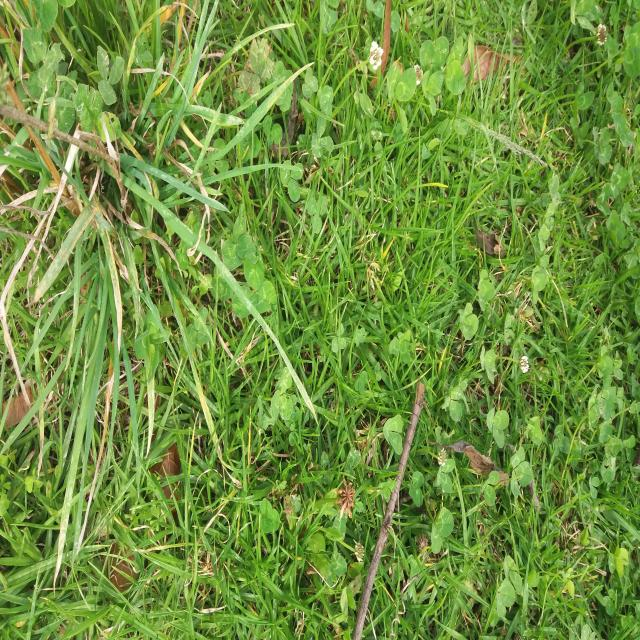Four Leaf Clover: (272, 60, 294, 112)
